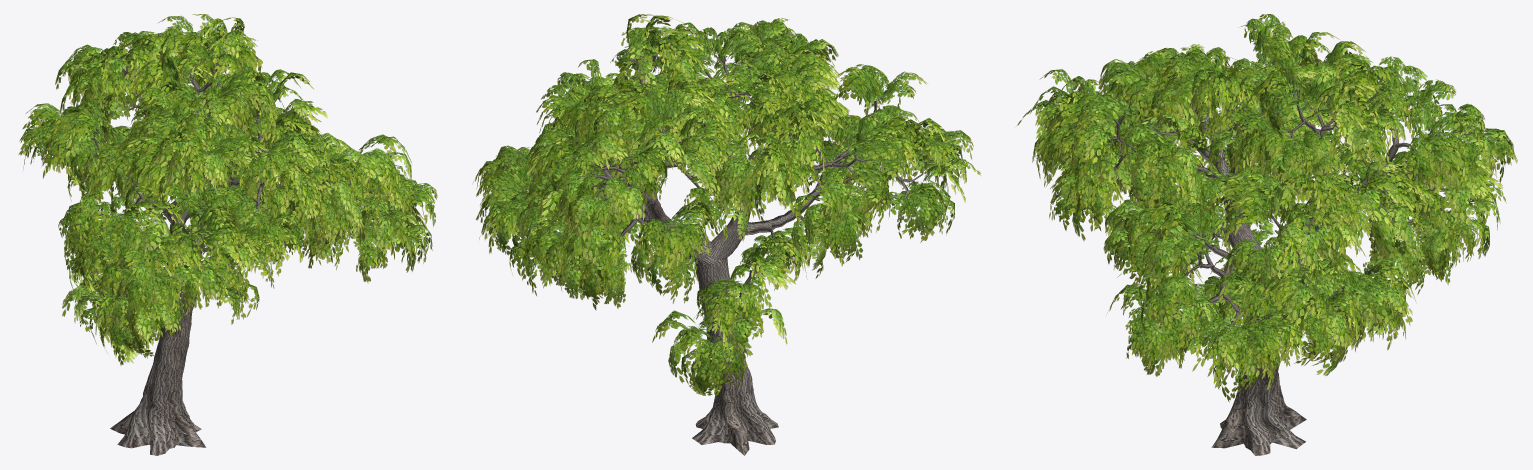
File: deciduous_tree_with_leaves_medium-poly.glb
The picture shows the model from 3 angles, left to right: view 1: azimuth 30°, elevation 25°; view 2: azimuth 150°, elevation 25°; view 3: azimuth 270°, elevation 25°; orthographic projection. The views are drawn at different scales.
Parts seen in each view (by area): view 1: Object_8, Object_7, Object_5, Object_6, Object_4, Object_3, Object_2; view 2: Object_7, Object_6, Object_8, Object_5, Object_4, Object_3, Object_2; view 3: Object_7, Object_8, Object_4, Object_5, Object_6, Object_3, Object_2.
Part boxes in pixels (x1,y1,x2,y2): Object_8: (20, 18, 435, 362); Object_7: (27, 31, 423, 363); Object_5: (22, 17, 427, 356); Object_6: (18, 27, 437, 365); Object_4: (33, 14, 422, 357); Object_3: (24, 32, 428, 358); Object_2: (90, 49, 389, 455); Object_7: (480, 24, 966, 395); Object_6: (488, 22, 965, 397); Object_8: (476, 15, 965, 395); Object_5: (476, 14, 973, 393); Object_4: (473, 20, 959, 384); Object_3: (478, 22, 980, 392); Object_2: (524, 49, 923, 455); Object_7: (1032, 44, 1517, 377); Object_8: (1038, 25, 1511, 390); Object_4: (1039, 21, 1496, 380); Object_5: (1034, 23, 1511, 393); Object_6: (1030, 14, 1506, 402); Object_3: (1017, 39, 1485, 398); Object_2: (1101, 58, 1447, 455).
Size of the model in its own units: 16.51 by 15.45 by 16.49.
7 materials, 7 textured.
